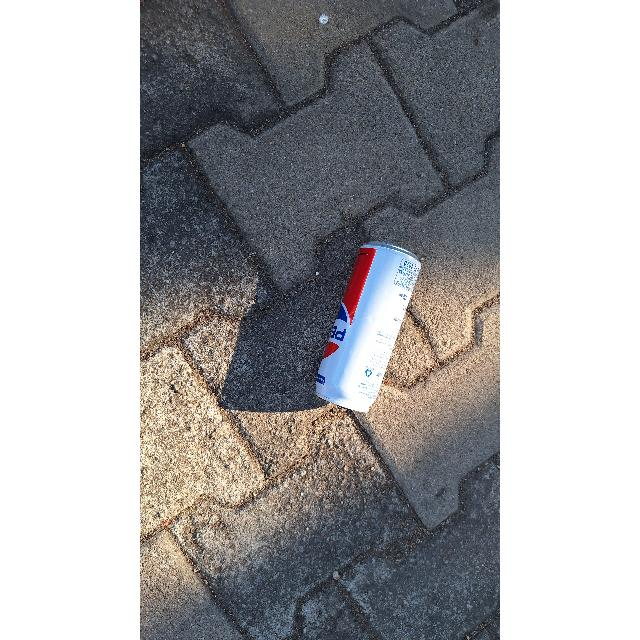Pepsi Retro: (313, 239, 423, 411)
